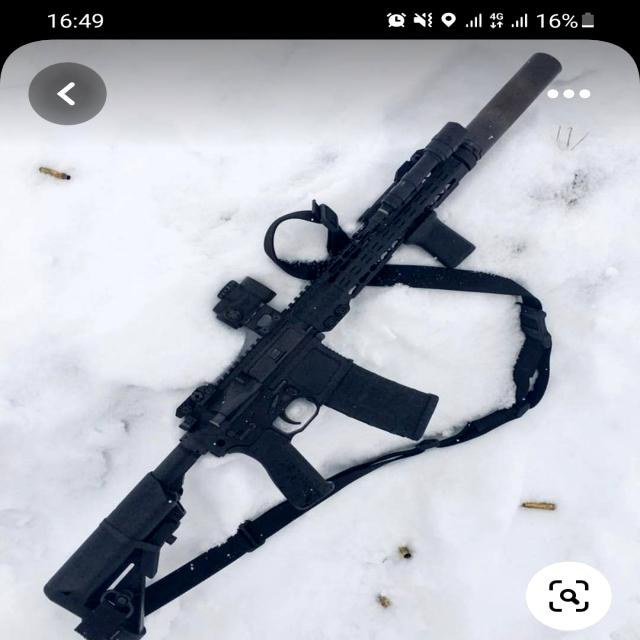m16: (24, 41, 582, 640)
